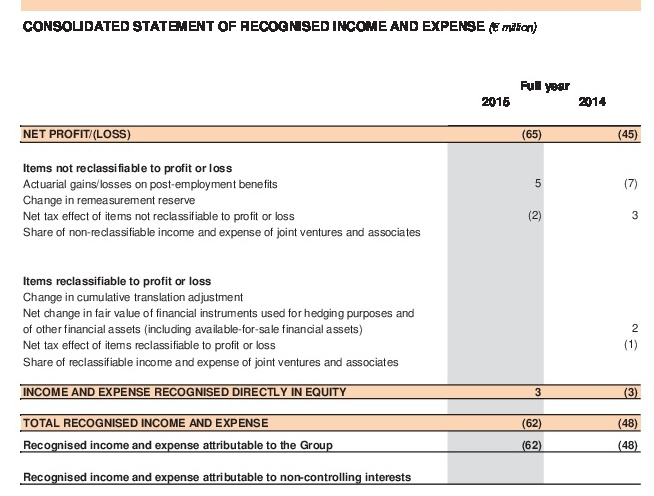table: (0, 0, 654, 496)
